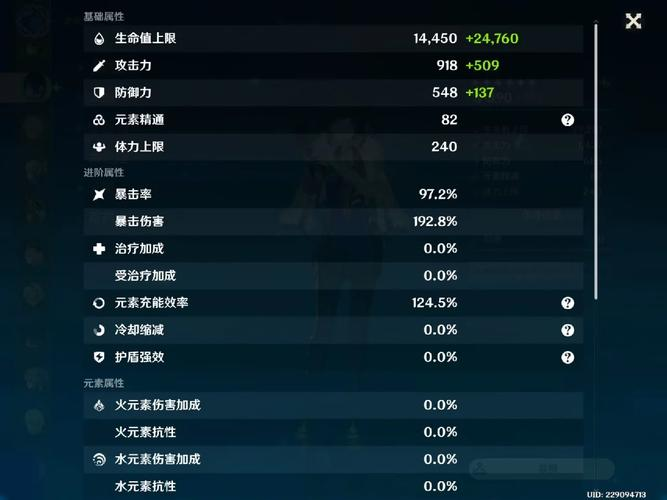夜兰: (284, 88, 399, 393)
